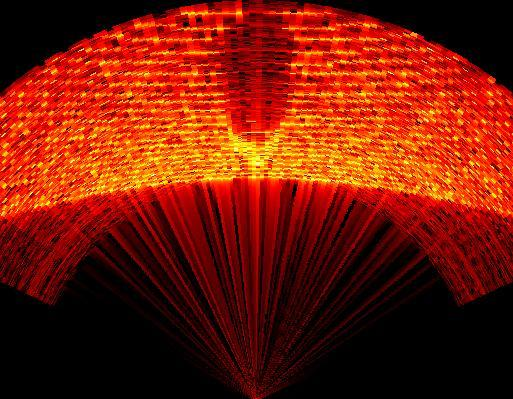box_crate: (222, 6, 289, 142)
